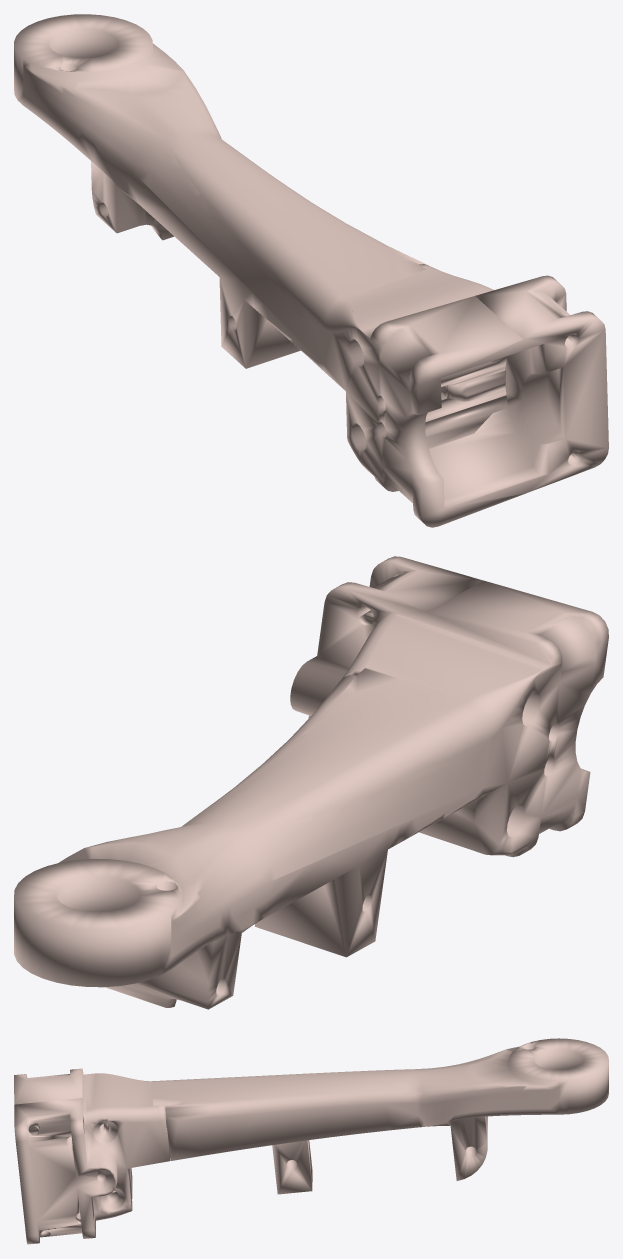
The model's file is ring_bulk_1.obj.
3 views of the same model, one above another, from view 1: azimuth 30°, elevation 25°; view 2: azimuth 150°, elevation 25°; view 3: azimuth 270°, elevation 25° (orthographic). The views are drawn at different scales.
Bounding box in the file's own units: 28.58 × 26.51 × 95.22.
